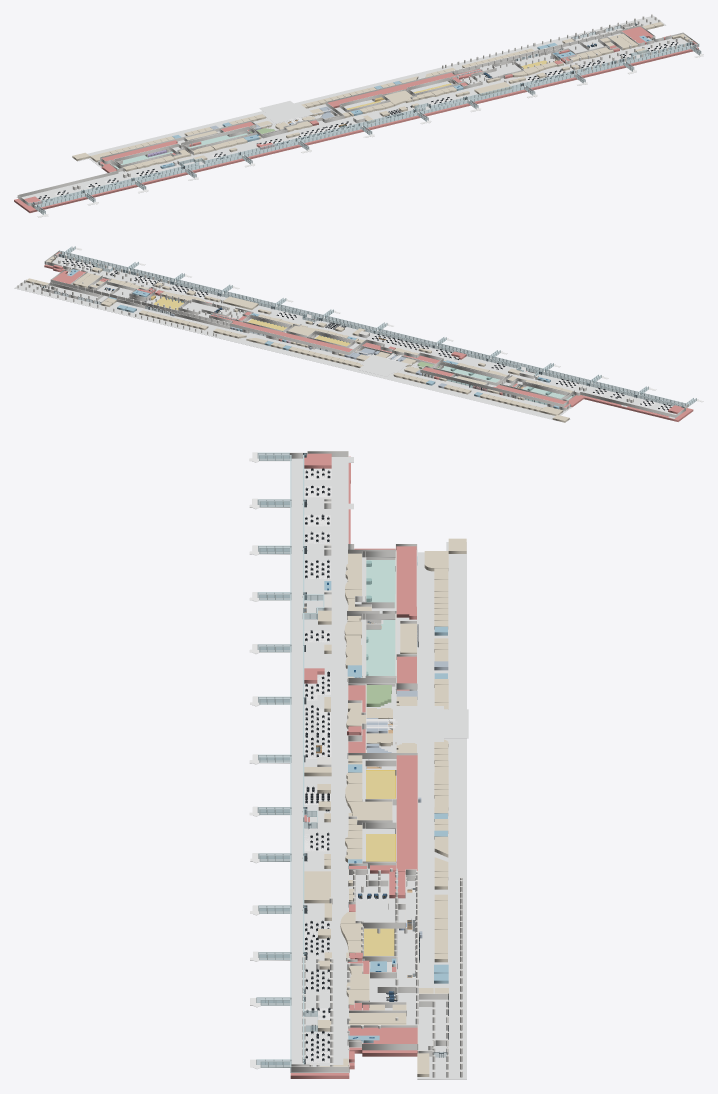
File: t1-gabungan.glb
3 views of the same model, one above another, from view 1: azimuth 30°, elevation 25°; view 2: azimuth 150°, elevation 25°; view 3: azimuth 270°, elevation 25° (orthographic). The views are drawn at different scales.
Visible parts, largest first — view 1: FLOOR_JUANDA_FF8, area_visitor, XRAY, area_merah, tembok_pillar_3, area_merah_15, tembok_pillar_7, area_merah_2__L2; view 2: FLOOR_JUANDA_FF8, area_visitor, XRAY, area_merah, tembok_pillar_3, area_merah_15, tembok_pillar_2, pavlon, tembok_pillar_7, tembok_pillar, area_merah_2__L2; view 3: FLOOR_JUANDA_FF8, area_visitor, XRAY, area_merah_15, area_merah, pavlon, area_merah_2__L2, ZONE_KEDATANGAN_1B_PART_02, ZONE_KEDATANGAN_1B_PART_01, area_merah_6__L2.
Part boxes in pixels (left/top/right/bottom): FLOOR_JUANDA_FF8: left=17, top=33, right=700, bottom=217; area_visitor: left=73, top=15, right=666, bottom=168; XRAY: left=17, top=33, right=703, bottom=216; area_merah: left=14, top=47, right=698, bottom=212; tembok_pillar_3: left=326, top=25, right=640, bottom=102; area_merah_15: left=328, top=72, right=455, bottom=108; tembok_pillar_7: left=18, top=170, right=118, bottom=197; area_merah_2__L2: left=102, top=140, right=177, bottom=160; FLOOR_JUANDA_FF8: left=52, top=249, right=701, bottom=418; area_visitor: left=14, top=279, right=571, bottom=422; XRAY: left=53, top=256, right=674, bottom=418; area_merah: left=44, top=264, right=693, bottom=421; tembok_pillar_3: left=50, top=279, right=348, bottom=354; area_merah_15: left=231, top=320, right=352, bottom=351; tembok_pillar_2: left=420, top=369, right=563, bottom=406; pavlon: left=358, top=360, right=407, bottom=376; tembok_pillar_7: left=580, top=392, right=675, bottom=417; tembok_pillar: left=117, top=296, right=229, bottom=325; area_merah_2__L2: left=493, top=385, right=566, bottom=404; FLOOR_JUANDA_FF8: left=249, top=457, right=443, bottom=1068; area_visitor: left=304, top=542, right=466, bottom=1079; XRAY: left=249, top=457, right=417, bottom=1072; area_merah_15: left=396, top=755, right=417, bottom=874; area_merah: left=290, top=456, right=417, bottom=1078; pavlon: left=395, top=706, right=468, bottom=741; area_merah_2__L2: left=396, top=546, right=416, bottom=619; ZONE_KEDATANGAN_1B_PART_02: left=367, top=620, right=394, bottom=675; ZONE_KEDATANGAN_1B_PART_01: left=367, top=560, right=394, bottom=601; area_merah_6__L2: left=348, top=1027, right=417, bottom=1043.
Bounding box in the file's own units: 651 × 5.89 × 97.14.
